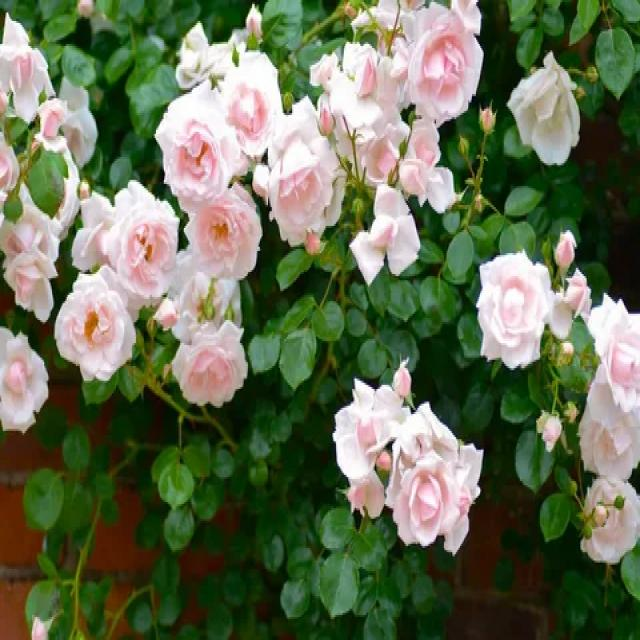rose: (384, 401, 492, 563), (47, 245, 143, 395), (471, 238, 562, 382), (262, 121, 348, 262)
